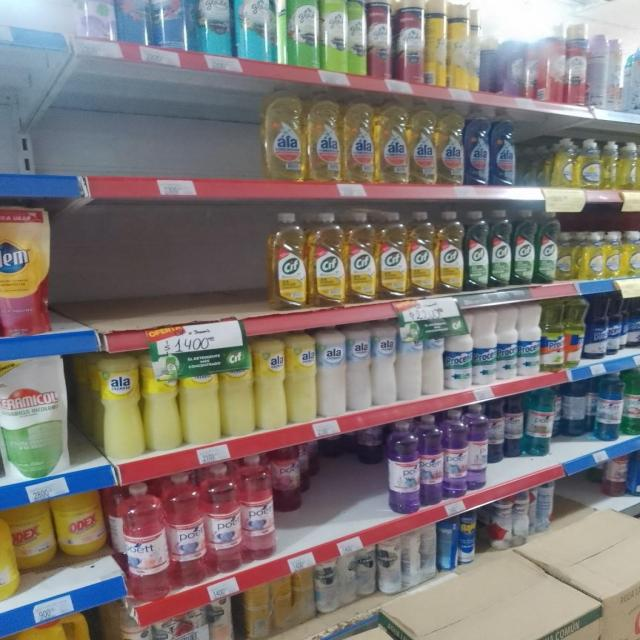ala_conc_amarillo: (262, 88, 304, 180), (306, 95, 341, 182), (343, 100, 375, 183), (377, 104, 408, 184), (409, 106, 436, 185), (437, 107, 464, 185)
ala_conc_azul: (490, 110, 518, 187), (465, 107, 490, 186)
ala_crem_amarillo: (94, 350, 142, 460), (255, 335, 286, 431), (287, 330, 316, 424)
ala_crem_blanco: (318, 327, 346, 417), (372, 322, 397, 406), (347, 325, 371, 411), (398, 320, 421, 401)
cif_conc_bot_amarilla: (266, 212, 306, 310), (308, 212, 345, 308), (347, 210, 376, 304), (378, 211, 407, 300), (408, 210, 436, 296), (437, 210, 464, 294)
cif_conc_botella_verde: (466, 210, 488, 291), (513, 209, 535, 285), (490, 209, 511, 288), (536, 210, 557, 284)
magistral_con_amarillo: (550, 137, 576, 188), (576, 139, 602, 189), (578, 231, 603, 280), (619, 141, 640, 190), (557, 232, 575, 282), (604, 230, 622, 278), (602, 140, 619, 190), (622, 230, 640, 276)
